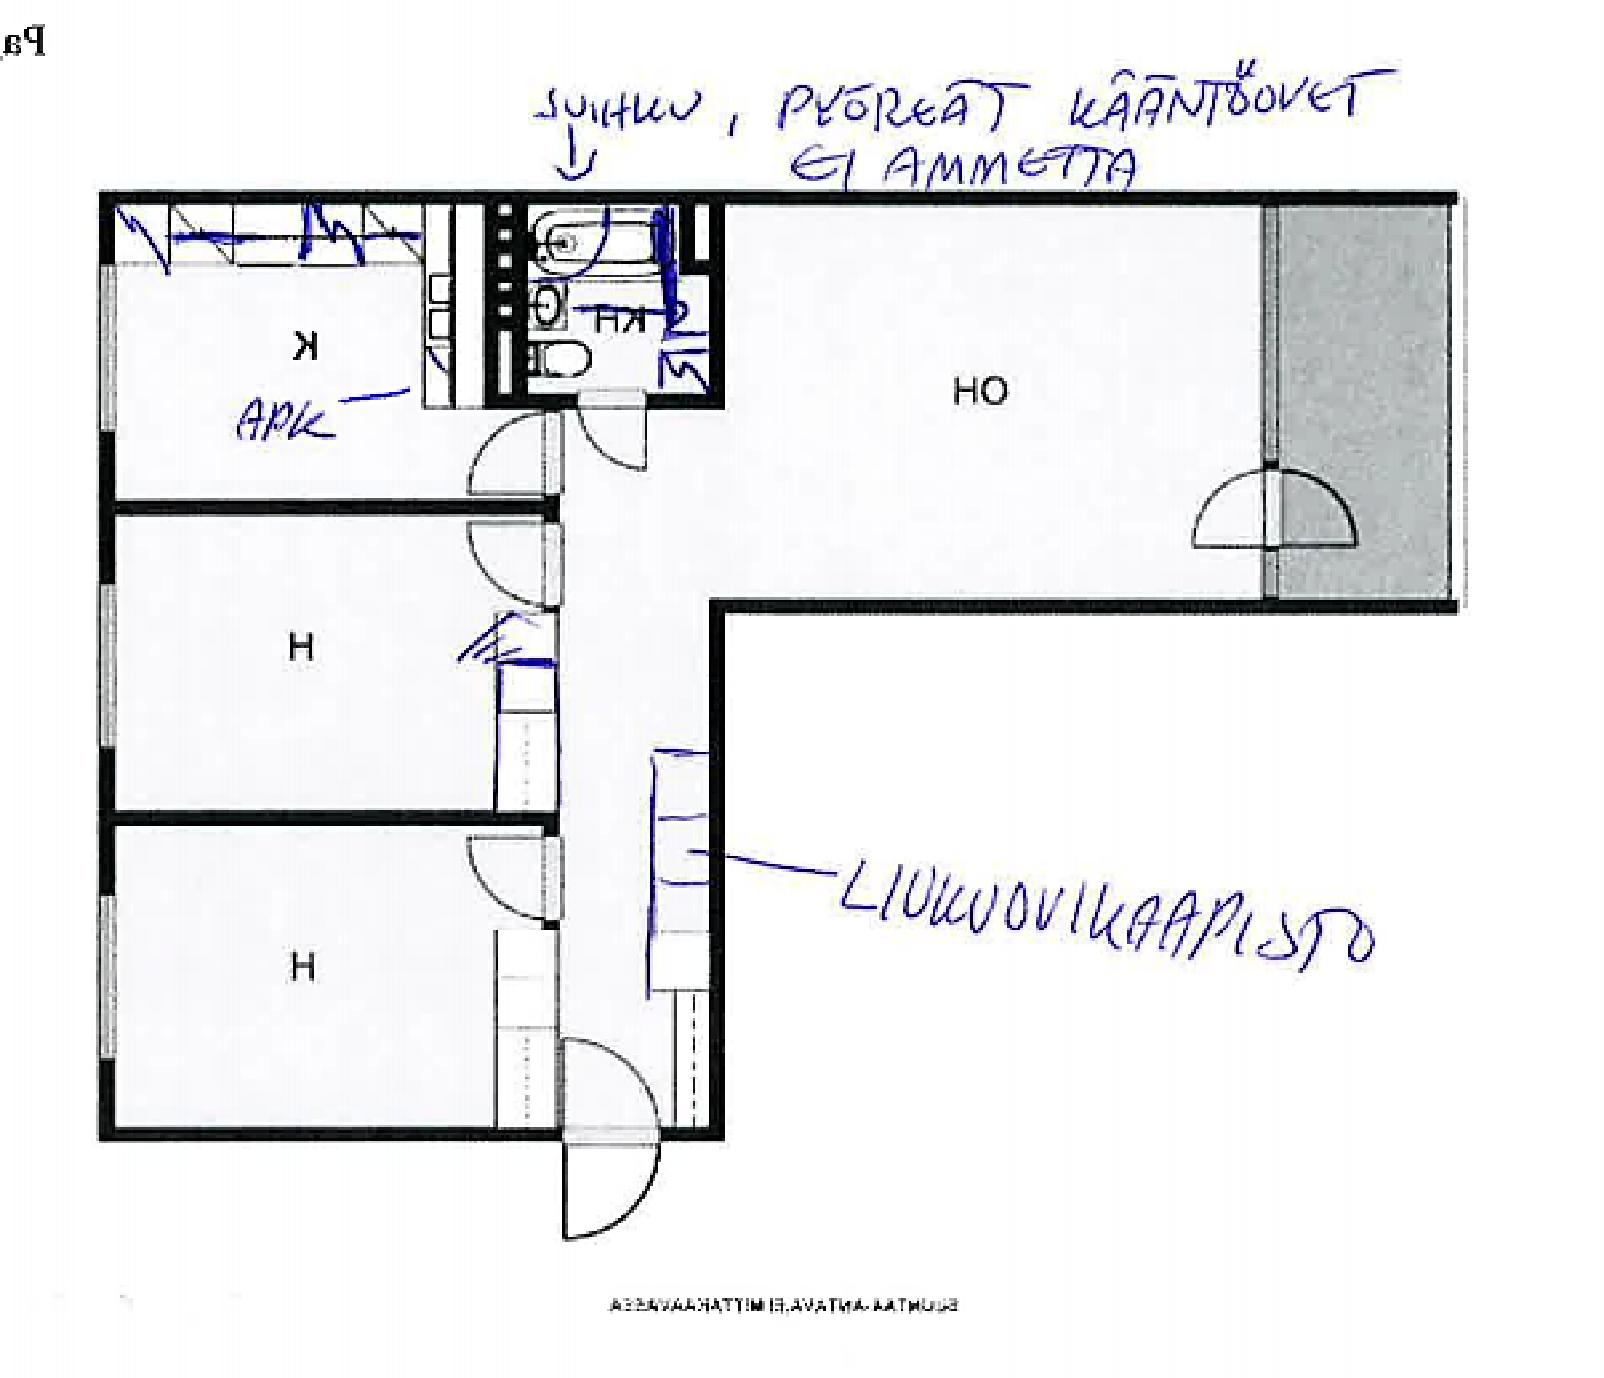door: (561, 1037, 666, 1252), (1192, 453, 1372, 554), (468, 830, 565, 936), (458, 411, 558, 512), (565, 396, 666, 484), (468, 523, 559, 598)
window: (91, 583, 125, 756), (91, 896, 125, 1066), (91, 266, 119, 427)
zone: (550, 206, 1273, 1132), (110, 819, 550, 1127), (115, 517, 546, 810), (116, 202, 550, 493), (1271, 206, 1453, 602), (520, 196, 711, 393)
